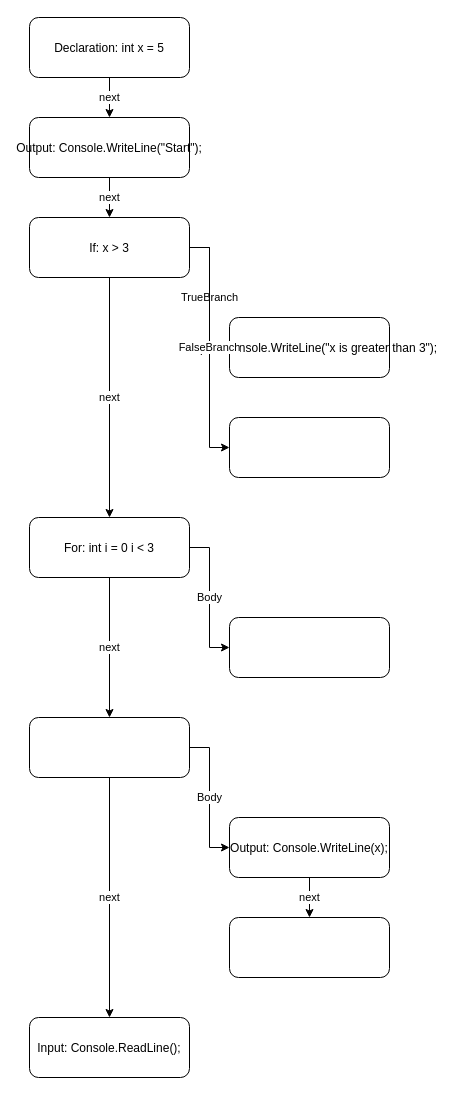
Image size: 466x1095. Some labels were removed from this diagram. Each missing label, with the centre of its shape:
Expression: x--;: point (309, 947)
Output: Console.WriteLine("x is not greater than 3");: point (309, 447)
Output: Console.WriteLine(i);: point (309, 647)
While: x > 0: point (109, 747)
